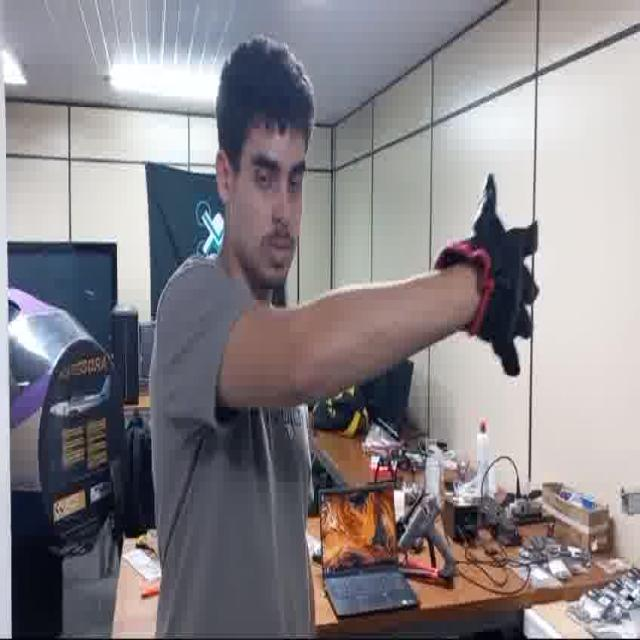Gloves: (443, 168, 542, 384)
